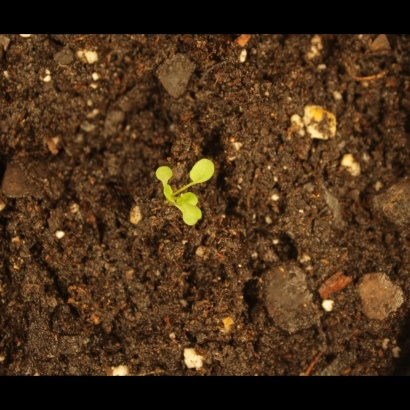leaf: (187, 154, 219, 187), (173, 187, 205, 215), (181, 202, 204, 229), (154, 164, 177, 187)
